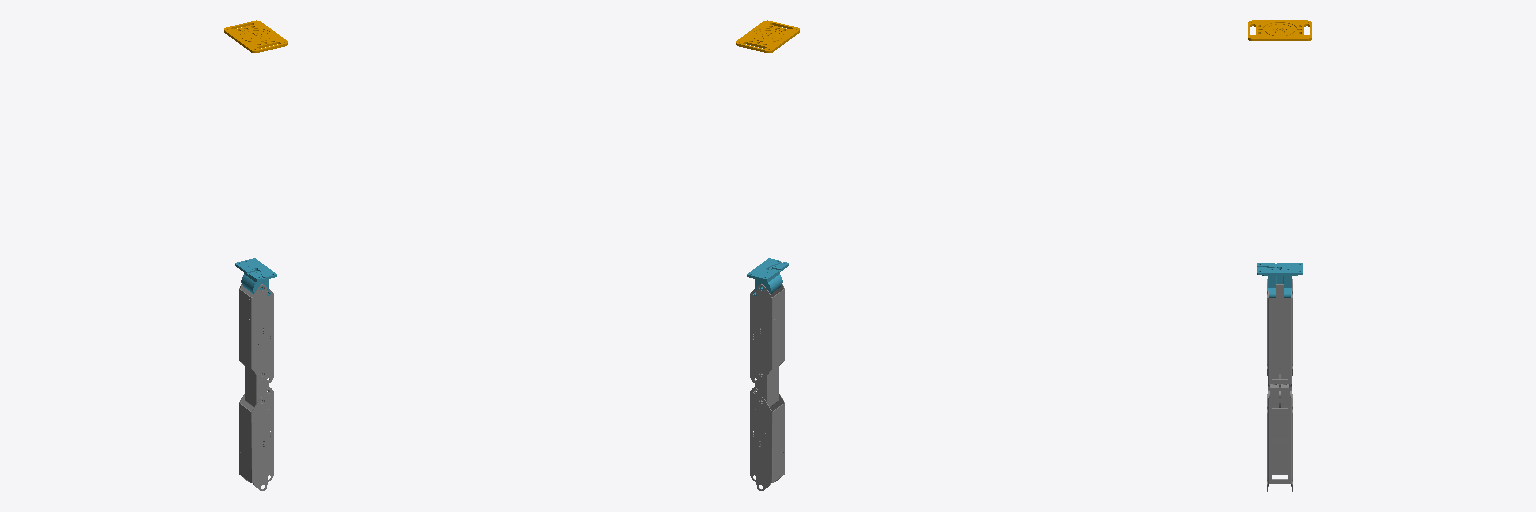
The robot description file, URDF, robot "AeroLowerRobot":
<?xml version="1.0"?>
<robot name="AeroLowerRobot"
       xmlns:xi="http://www.w3.org/2001/XInclude"
       xmlns:gazebo="http://playerstage.sourceforge.net/gazebo/xmlschema/#gz"
       xmlns:model="http://playerstage.sourceforge.net/gazebo/xmlschema/#model"
       xmlns:sensor="http://playerstage.sourceforge.net/gazebo/xmlschema/#sensor"
       xmlns:body="http://playerstage.sourceforge.net/gazebo/xmlschema/#body"
       xmlns:geom="http://playerstage.sourceforge.net/gazebo/xmlschema/#geom"
       xmlns:joint="http://playerstage.sourceforge.net/gazebo/xmlschema/#joint"
       xmlns:interface="http://playerstage.sourceforge.net/gazebo/xmlschema/#interface"
       xmlns:rendering="http://playerstage.sourceforge.net/gazebo/xmlschema/#rendering"
       xmlns:renderable="http://playerstage.sourceforge.net/gazebo/xmlschema/#renderable"
       xmlns:controller="http://playerstage.sourceforge.net/gazebo/xmlschema/#controller"
       xmlns:physics="http://playerstage.sourceforge.net/gazebo/xmlschema/#physics">
  <link name="WAIST_LINK0">
    <visual>
      <origin xyz="0 0 0.968" rpy="0 -0 0"/>
      <geometry>
        <mesh filename="package://aero_description/models/aero-lower_meshes/CRT_base_plate_B.stl" scale="0.001 0.001 0.001" />
      </geometry>
    </visual>
    <collision>
      <origin xyz="0 0 0.968" rpy="0 -0 0"/>
      <geometry>
        <mesh filename="package://aero_description/models/aero-lower_meshes/CRT_base_plate_B.stl" scale="0.001 0.001 0.001" />
      </geometry>
    </collision>
    <inertial>
      <mass value="0" />
      <origin xyz="0 0 0" rpy="0 -0 0"/>
      <inertia ixx="0" ixy="0" ixz="0" iyy="0" iyz="0" izz="0"/>
    </inertial>
  </link>
  <gazebo reference="WAIST_LINK0">
    <mu1>0.9</mu1>
    <mu2>0.9</mu2>
  </gazebo>
  <link name="WAIST_LINK1">
    <visual>
      <origin xyz="0 0 0" rpy="0 -0 0"/>
      <geometry>
        <mesh filename="package://aero_description/models/aero-lower_meshes/Lamia_base.stl" scale="0.001 0.001 0.001" />
      </geometry>
      <material name="WAIST_LINK1_color">
        <color rgba="0.286 0.639 0.741 1.0"/>
      </material>
    </visual>
    <collision>
      <origin xyz="0 0 0" rpy="0 -0 0"/>
      <geometry>
        <mesh filename="package://aero_description/models/aero-lower_meshes/Lamia_base.stl" scale="0.001 0.001 0.001" />
      </geometry>
    </collision>
    <inertial>
      <mass value="7.64604" />
      <origin xyz="-0.012819 -0.002679 0.007207" rpy="0 -0 0"/>
      <inertia ixx="0.0658136" ixy="-0.000159462" ixz="0.010103" iyy="0.0504268" iyz="0.000173435" izz="0.0889772"/>
    </inertial>
  </link>
  <gazebo reference="WAIST_LINK1">
    <mu1>0.9</mu1>
    <mu2>0.9</mu2>
  </gazebo>
  <link name="LEG_LINK1">
    <visual>
      <origin xyz="0.0 0.0 0.0" rpy="0 -0 0"/>
      <geometry>
        <mesh filename="package://aero_description/models/aero-lower_meshes/Lamia_Link1.stl" scale="0.001 0.001 0.001" />
      </geometry>
      <material name="LEG_LINK1_color">
        <color rgba="0.6 0.6 0.6 1"/>
      </material>
    </visual>
    <collision>
      <origin xyz="0.0 0.0 0.0" rpy="0 -0 0"/>
      <geometry>
        <mesh filename="package://aero_description/models/aero-lower_meshes/Lamia_Link1.stl" scale="0.001 0.001 0.001" />
      </geometry>
    </collision>
    <inertial>
      <mass value="2.62321" />
      <origin xyz="0.0587169 0 -0.135292" rpy="0 -0 0"/>
      <inertia ixx="0.0161595" ixy="-9.27234e-05" ixz="0.00262839" iyy="0.0166415" iyz="-0.00017447" izz="0.00477281"/>
    </inertial>
  </link>
  <gazebo reference="LEG_LINK1">
    <mu1>0.9</mu1>
    <mu2>0.9</mu2>
  </gazebo>
  <link name="LEG_LINK2">
    <visual>
      <origin xyz="-0.056 0.0 0.056" rpy="0 -0 0"/>
      <geometry>
        <mesh filename="package://aero_description/models/aero-lower_meshes/Lamia_Link2.stl" scale="0.001 0.001 0.001" />
      </geometry>
      <material name="LEG_LINK2_color">
        <color rgba="0.6 0.6 0.6 1"/>
      </material>
    </visual>
    <collision>
      <origin xyz="0.0 0.0 0.0" rpy="0 -0 0"/>
      <geometry>
        <mesh filename="package://aero_description/models/aero-lower_meshes/Lamia_Link2.stl" scale="0.001 0.001 0.001" />
      </geometry>
    </collision>
    <inertial>
      <mass value="2.06679" />
      <origin xyz="0.081713 0.000812 -0.146934" rpy="0 -0 0"/>
      <inertia ixx="0.0408818" ixy="-9.39301e-06" ixz="-0.000750165" iyy="0.0403969" iyz="-0.000120419" izz="0.00260982"/>
    </inertial>
  </link>
  <gazebo reference="LEG_LINK2">
    <mu1>0.9</mu1>
    <mu2>0.9</mu2>
  </gazebo>

  <joint name="WAIST_Y" type="continuous">
    <parent link="WAIST_LINK0"/>
    <child  link="WAIST_LINK1"/>
    <origin xyz="0 0 -0.06" rpy="0 -0 0 "/>
    <axis   xyz="0 0 1"/>
    <limit lower="-3.14159" upper="3.14159" effort="100" velocity="0.5" />
    <dynamics damping="0.2" friction="0" />
  </joint>
  <transmission type="pr2_mechanism_model/SimpleTransmission" name="WAIST_Y_trans" >
    <actuator name="WAIST_Y_motor" />
    <joint name="WAIST_Y" />
    <mechanicalReduction>1</mechanicalReduction>
  </transmission>
  <gazebo reference="WAIST_Y">
    <cfmDamping>0.4</cfmDamping>
  </gazebo>
  <joint name="LEG_HIP" type="revolute">
    <parent link="WAIST_LINK1"/>
    <child  link="LEG_LINK1"/>
    <origin xyz="0.0 0.0 0.0" rpy="0 -0 0 "/>
    <axis   xyz="0 1 0"/>
    <limit lower="0" upper="1.5708" effort="100" velocity="0.5" />
    <dynamics damping="0.2" friction="0" />
  </joint>
  <transmission type="pr2_mechanism_model/SimpleTransmission" name="LEG_HIP_trans" >
    <actuator name="LEG_HIP_motor" />
    <joint name="LEG_HIP" />
    <mechanicalReduction>1</mechanicalReduction>
  </transmission>
  <gazebo reference="LEG_HIP">
    <cfmDamping>0.4</cfmDamping>
  </gazebo>
  <joint name="LEG_KNEE" type="revolute">
    <parent link="LEG_LINK1"/>
    <child  link="LEG_LINK2"/>
    <origin xyz="0.056 0.0 -0.416" rpy="0 -0 0 "/>
    <axis   xyz="0 -1 0"/>
    <limit lower="0" upper="1.5708" effort="100" velocity="0.5" />
    <dynamics damping="0.2" friction="0" />
  </joint>
  <transmission type="pr2_mechanism_model/SimpleTransmission" name="LEG_KNEE_trans" >
    <actuator name="LEG_KNEE_motor" />
    <joint name="LEG_KNEE" />
    <mechanicalReduction>1</mechanicalReduction>
  </transmission>
  <gazebo reference="LEG_KNEE">
    <cfmDamping>0.4</cfmDamping>
  </gazebo>

</robot>

--- What the picture shows (computed from the rendered views, not written in the file) ---
3 views of the same robot in one strip: view 1: azimuth 30°, elevation 25°; view 2: azimuth 150°, elevation 25°; view 3: azimuth 270°, elevation 25° (orthographic).
Robot: AeroLowerRobot — 4 links, 3 joints (2 revolute, 1 continuous); root link WAIST_LINK0; default pose: every joint at zero.
Links seen in each view (by area): view 1: LEG_LINK2, LEG_LINK1, WAIST_LINK0, WAIST_LINK1; view 2: LEG_LINK2, LEG_LINK1, WAIST_LINK0, WAIST_LINK1; view 3: LEG_LINK2, LEG_LINK1, WAIST_LINK0, WAIST_LINK1.
Link boxes in pixels (x1=…): LEG_LINK2: x1=239, y1=365, x2=273, y2=490; LEG_LINK1: x1=239, y1=284, x2=273, y2=383; WAIST_LINK0: x1=224, y1=20, x2=287, y2=52; WAIST_LINK1: x1=235, y1=258, x2=276, y2=295; LEG_LINK2: x1=750, y1=365, x2=784, y2=490; LEG_LINK1: x1=750, y1=284, x2=784, y2=383; WAIST_LINK0: x1=736, y1=20, x2=799, y2=52; WAIST_LINK1: x1=747, y1=258, x2=788, y2=295; LEG_LINK2: x1=1267, y1=374, x2=1292, y2=491; LEG_LINK1: x1=1267, y1=279, x2=1292, y2=386; WAIST_LINK0: x1=1248, y1=20, x2=1311, y2=40; WAIST_LINK1: x1=1257, y1=263, x2=1302, y2=297.
Size in the robot's own frame: 0.16 by 0.24 by 1.89 metres.
Meshes: 4 distinct files referenced, 4 mesh visuals loaded (4 binary STL).
